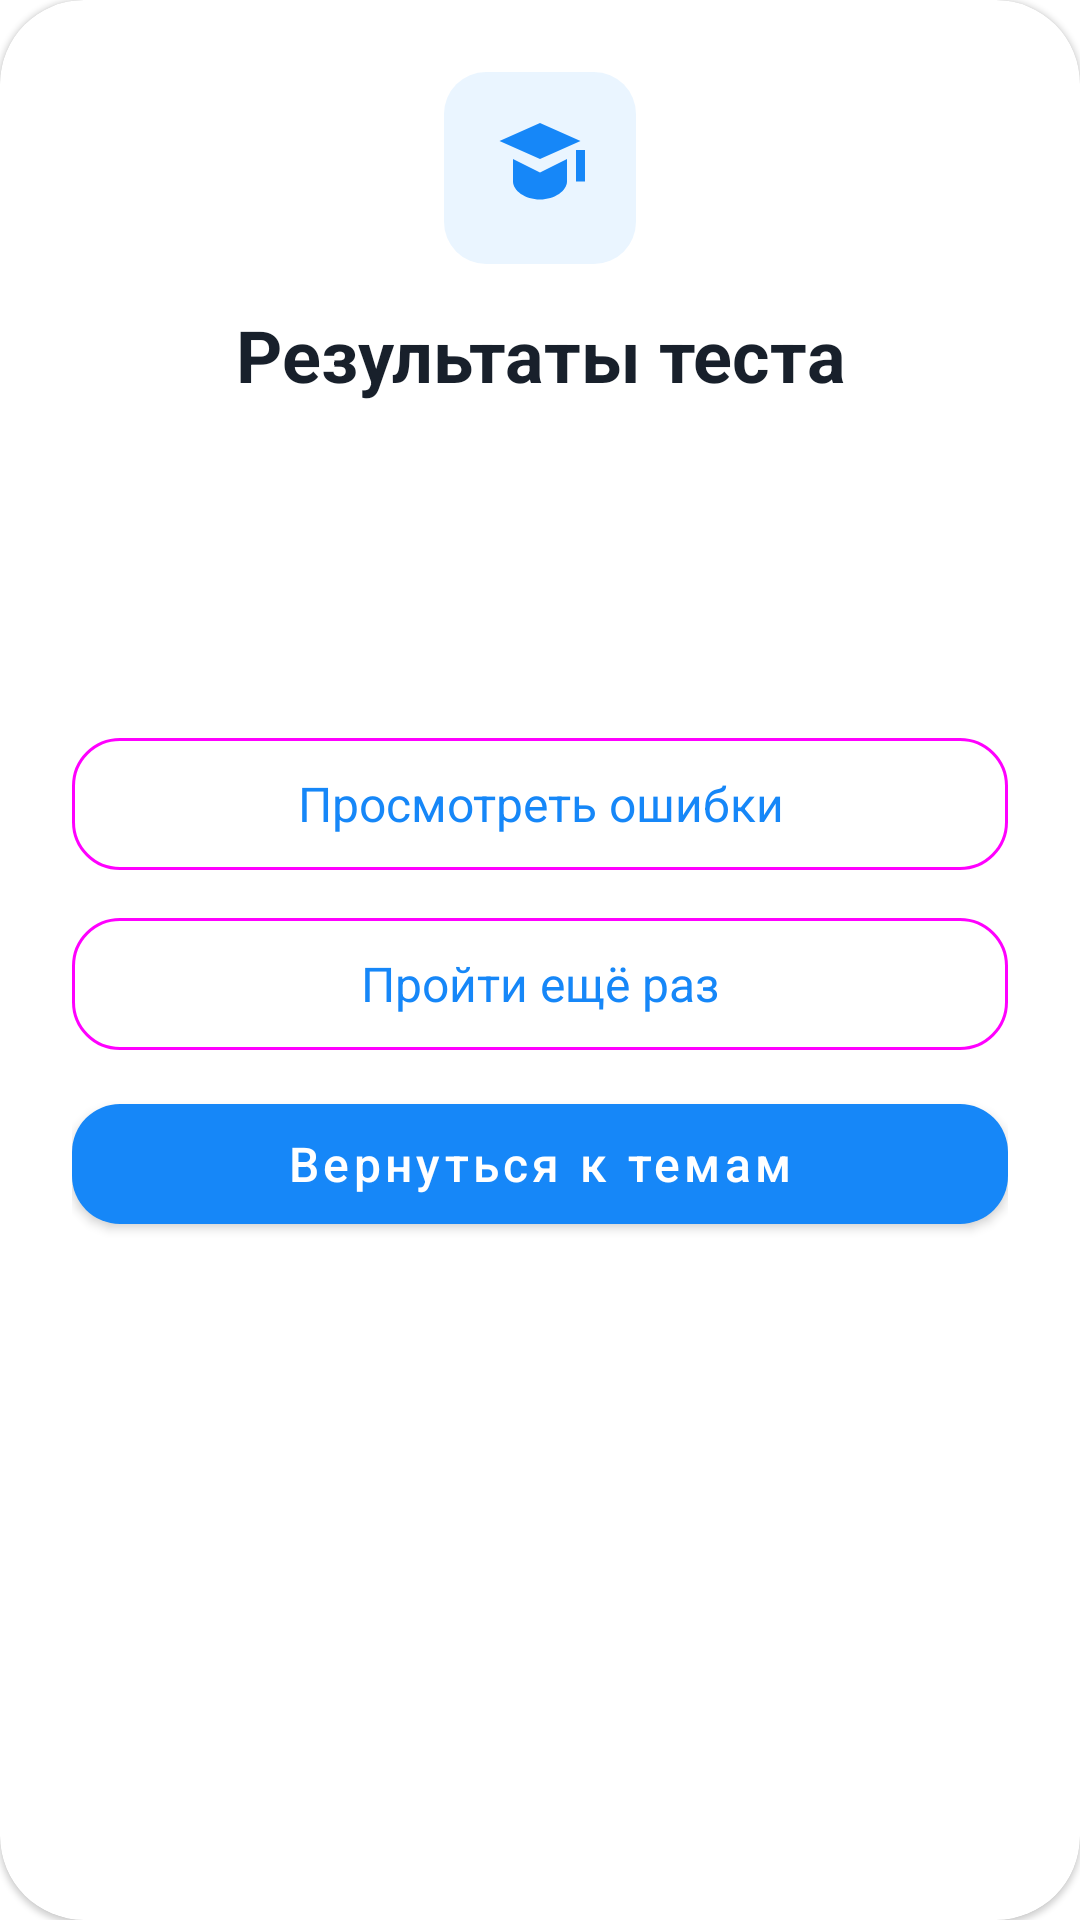

Point at icon controls on the screen. Image size 1080*1920, points as [x,y].
graduation: [542,161]
